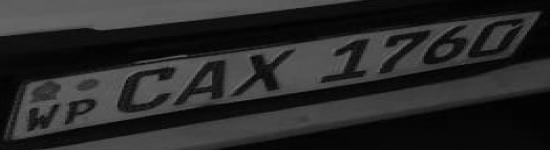0: (469, 17, 527, 60)
1: (318, 36, 372, 85)
6: (422, 22, 470, 67)
7: (375, 28, 433, 75)
A: (172, 58, 228, 107)
C: (113, 64, 178, 114)
P: (65, 96, 100, 126)
W: (23, 101, 63, 133)
X: (224, 47, 298, 97)
